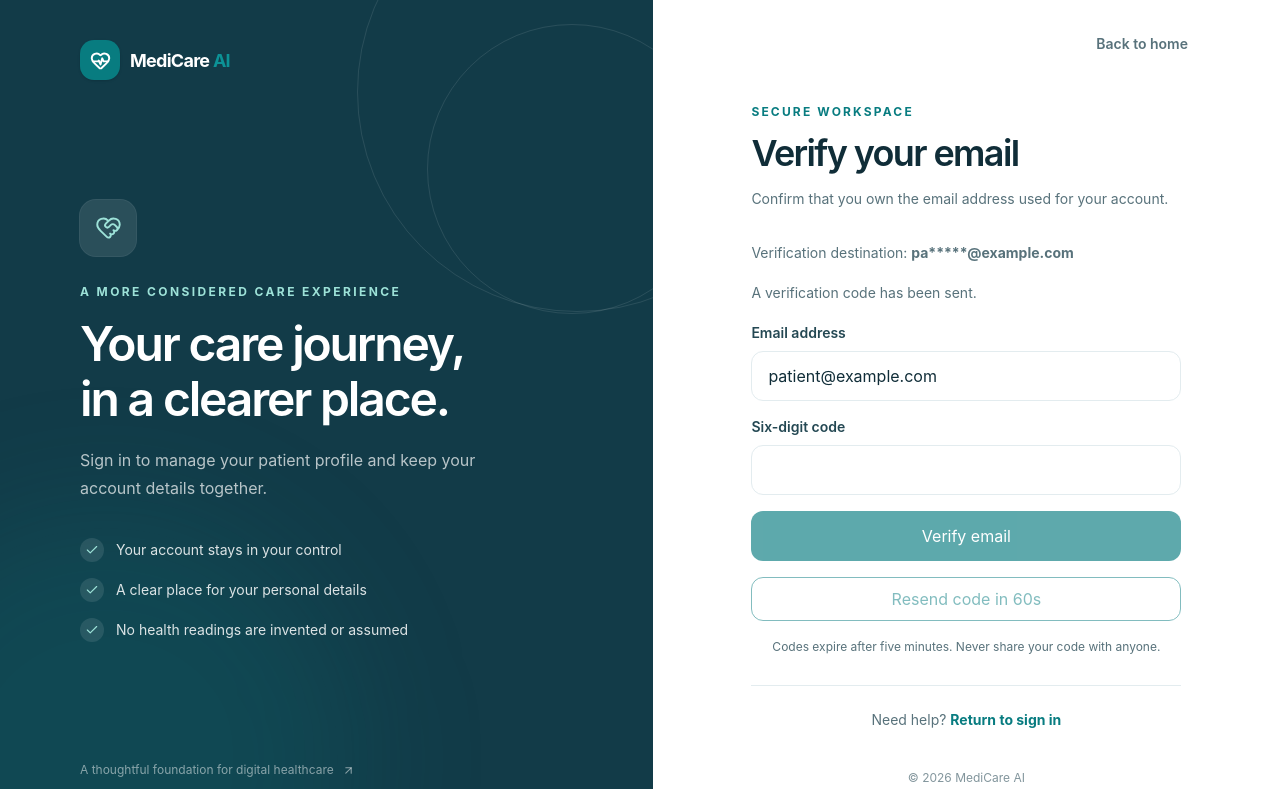
email verification › validates OTP input and displays an incorrect-code response
Expected: the text "pa*****@example.com" is shown, [911,244,1074,261]
Type "12a3456" into the field labelled "Six-digit code".
click(966, 470); type("12a3456")  # box [751,445,1181,495]
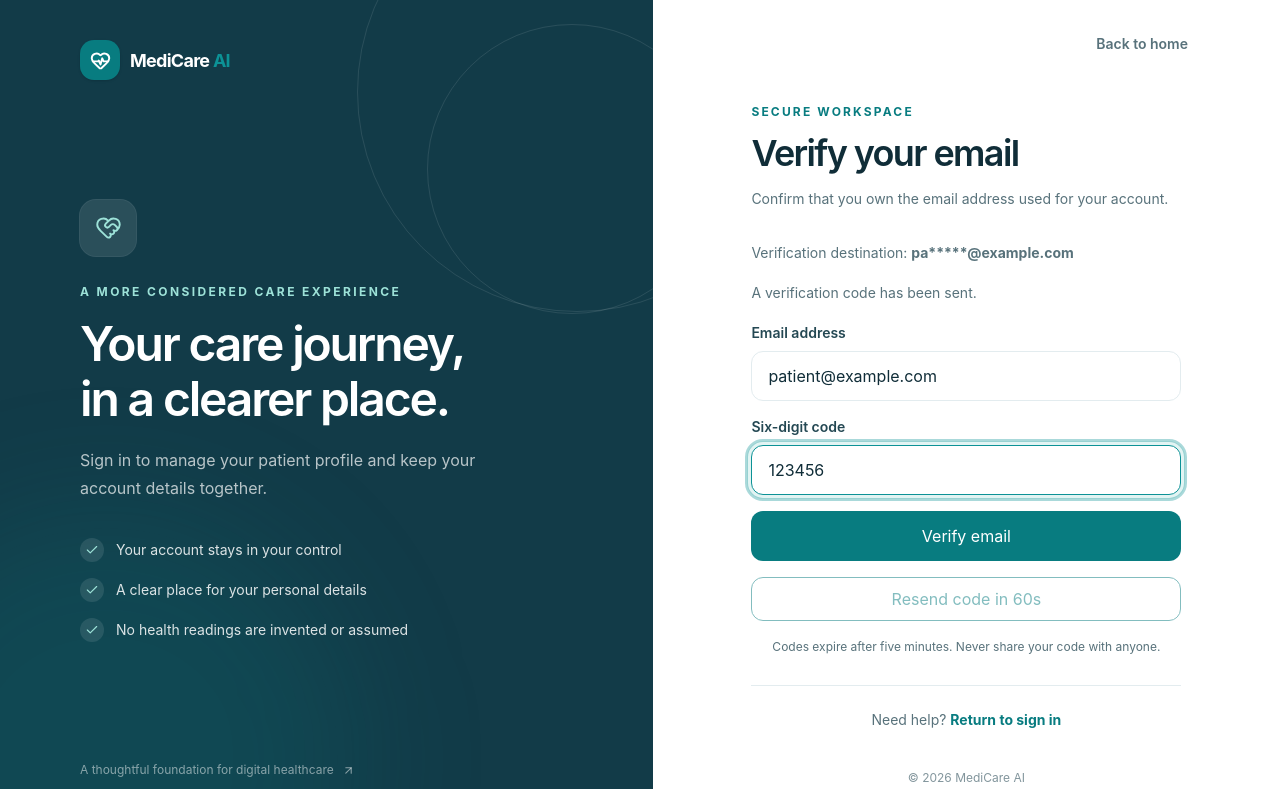
Expected: the field labelled "Six-digit code" holds "123456", [751,445,1181,495]
Click the button "Verify email".
click(966, 536)  # box [751,511,1181,561]
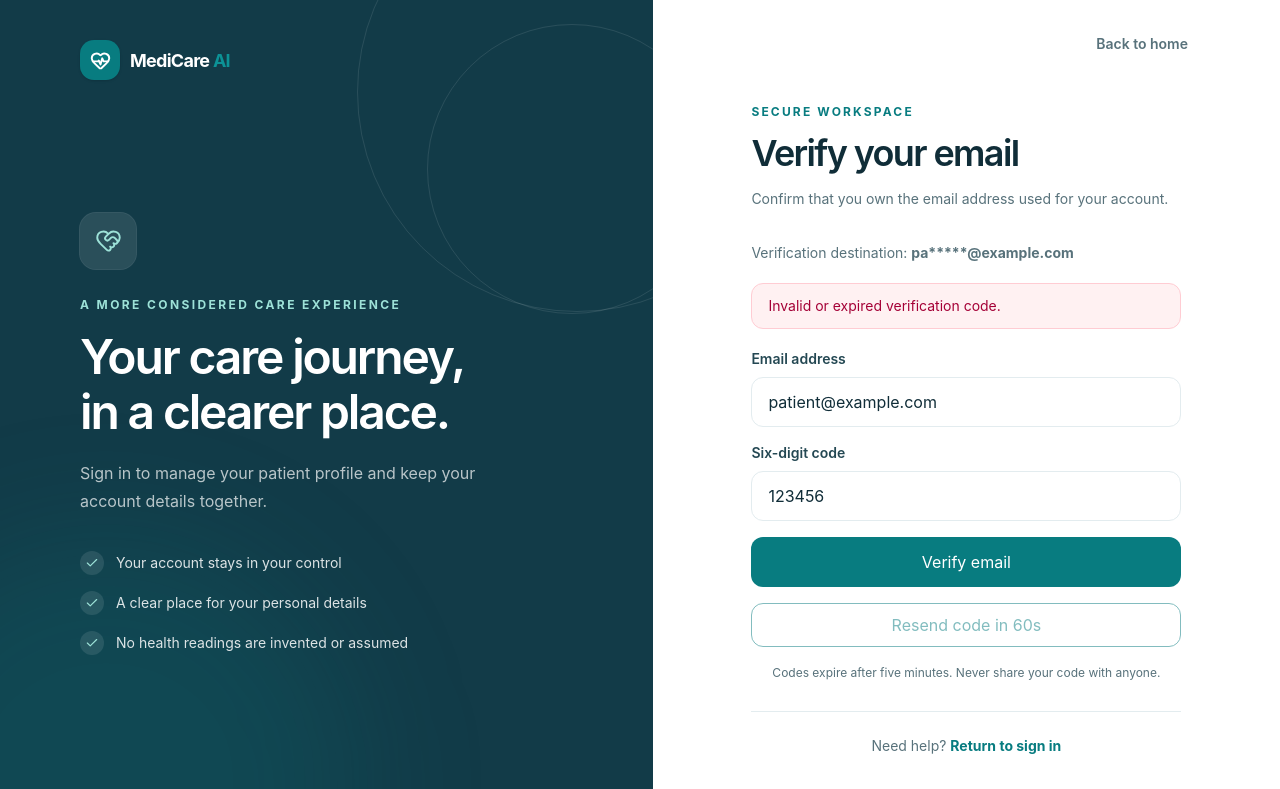
Expected: the text "Invalid or expired verification code." is shown, [751,283,1181,329]
